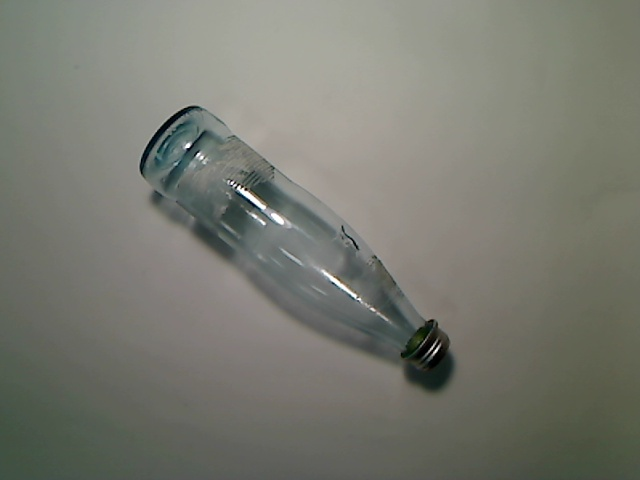bottle: (138, 105, 450, 374)
